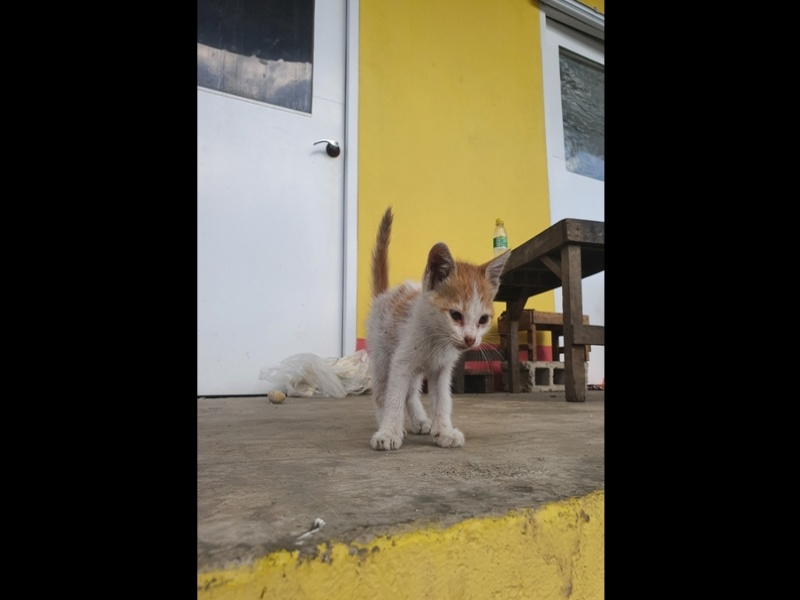cat: (360, 205, 509, 454)
